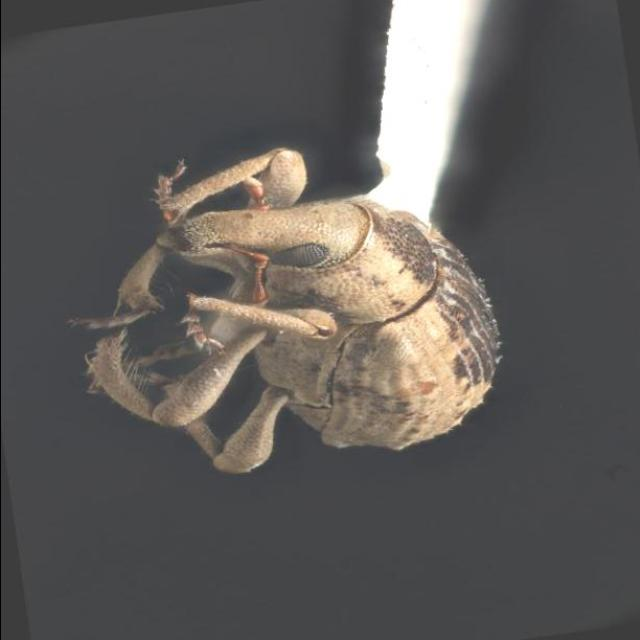ricebug: (71, 147, 499, 473)
